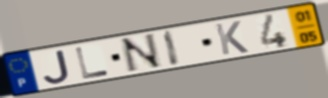4: (259, 12, 290, 49)
I: (161, 29, 183, 68)
J: (42, 48, 73, 85)
K: (212, 19, 251, 57)
L: (73, 45, 112, 80)
N: (118, 32, 166, 75)
